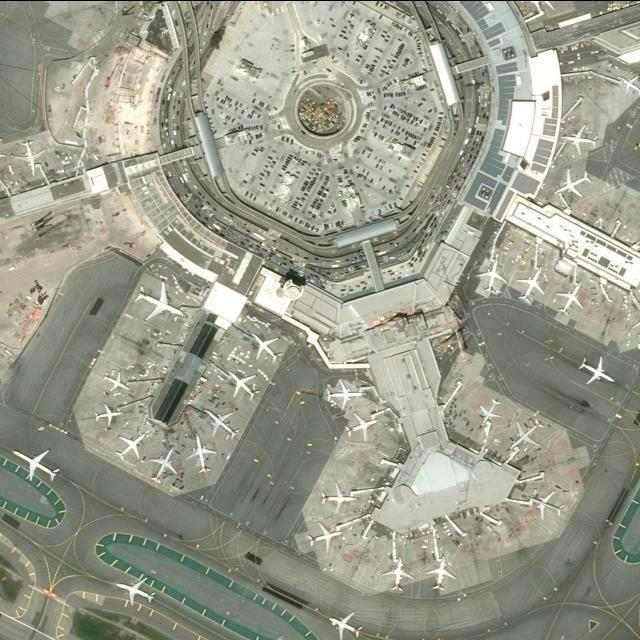Aircraft: (134, 278, 186, 320), (12, 447, 61, 480), (185, 432, 218, 472), (12, 138, 46, 174), (327, 377, 365, 409), (562, 123, 600, 155), (118, 575, 158, 605), (554, 167, 594, 197), (477, 258, 510, 294), (529, 489, 567, 520), (509, 416, 545, 448), (149, 446, 179, 484), (517, 266, 547, 304), (578, 353, 616, 383), (321, 481, 356, 513), (425, 555, 457, 589), (205, 407, 241, 437), (383, 556, 415, 589), (308, 520, 342, 551), (251, 331, 284, 361), (329, 610, 363, 639), (557, 281, 586, 315), (114, 430, 146, 460), (230, 369, 262, 399), (346, 411, 378, 439), (481, 397, 503, 426), (103, 369, 131, 391), (95, 402, 123, 424), (618, 73, 640, 97), (530, 0, 568, 9)
